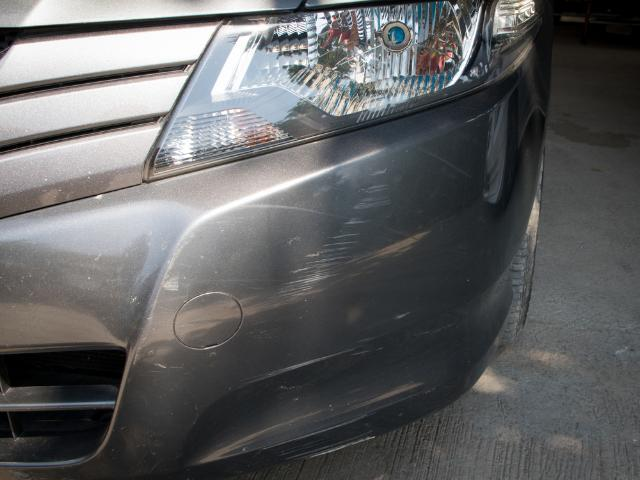scratch: (277, 167, 395, 300), (266, 416, 380, 460)
